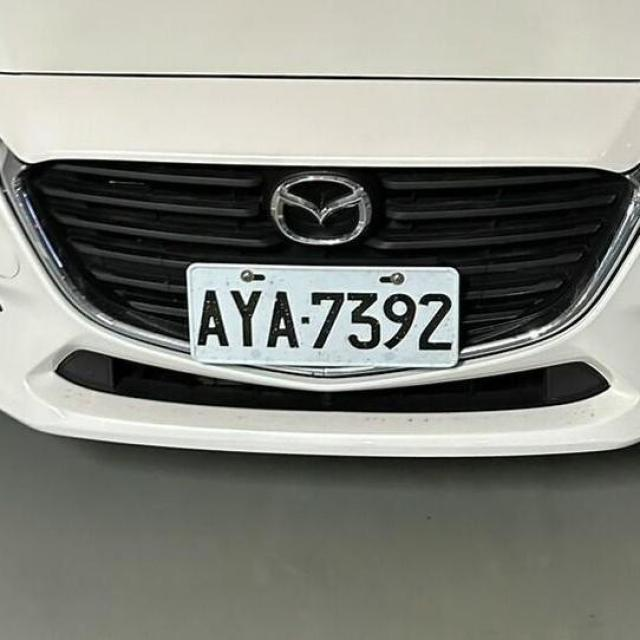W: (180, 249, 468, 392)
